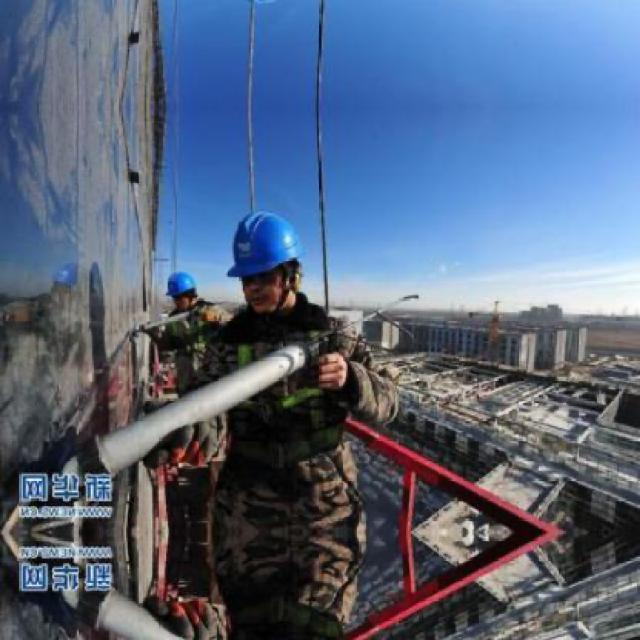con casco: (210, 198, 338, 322), (151, 264, 199, 314)
